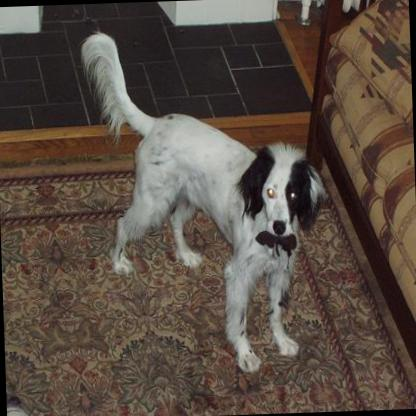English_setter: (78, 18, 335, 376)
